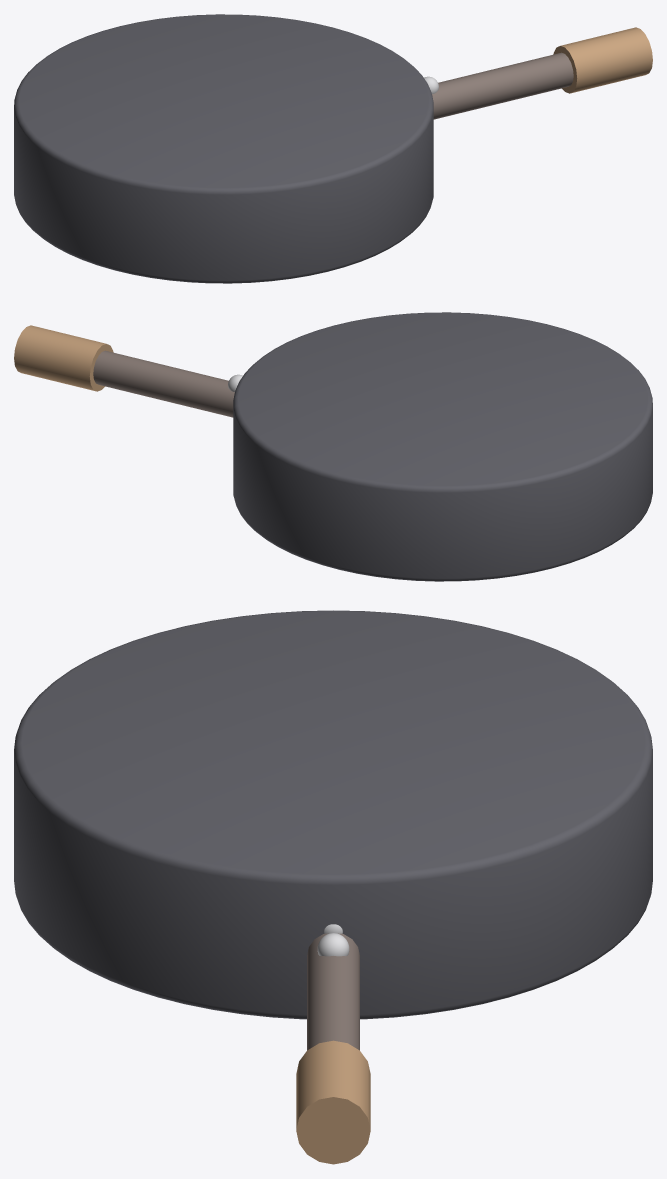
The model's file is pan.fbx.
3 renders of one model, top to bottom at view 1: azimuth 30°, elevation 25°; view 2: azimuth 150°, elevation 25°; view 3: azimuth 270°, elevation 25°, orthographic. The views are drawn at different scales.
Visible parts, largest first — view 1: Cylinder; view 2: Cylinder; view 3: Cylinder.
Boxes of the visible parts, left/top/right/bottom form: Cylinder: left=14, top=14, right=652, bottom=283; Cylinder: left=14, top=312, right=652, bottom=581; Cylinder: left=14, top=610, right=652, bottom=1164.
Bounding box in the file's own units: 3.95 × 0.6 × 2.4.
